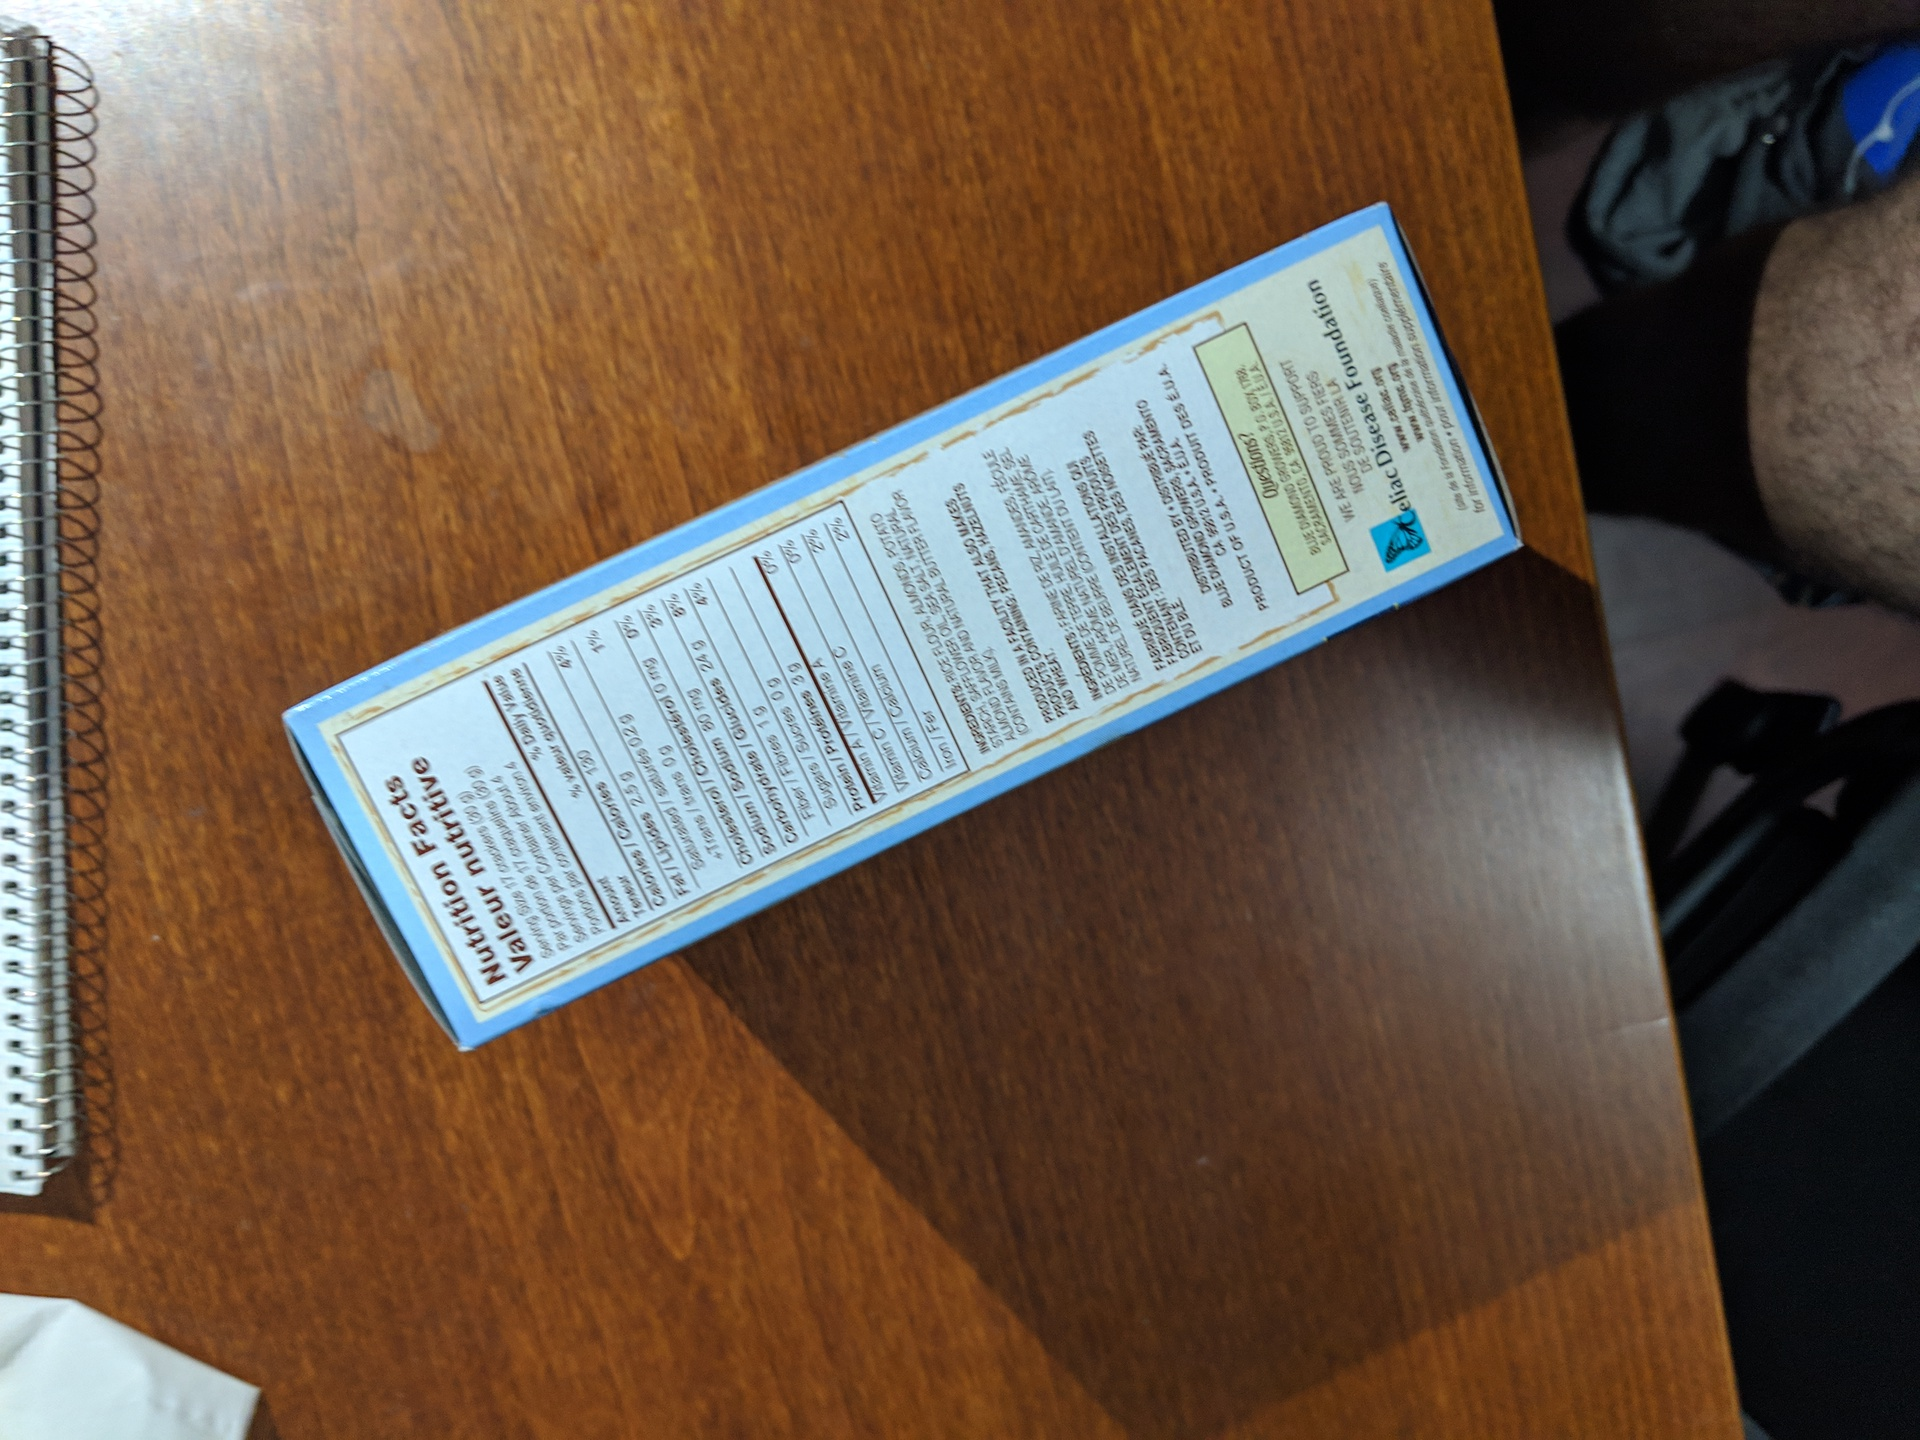blue_diamond_nut_thins_almond_seasalt: (379, 330, 1454, 935)
